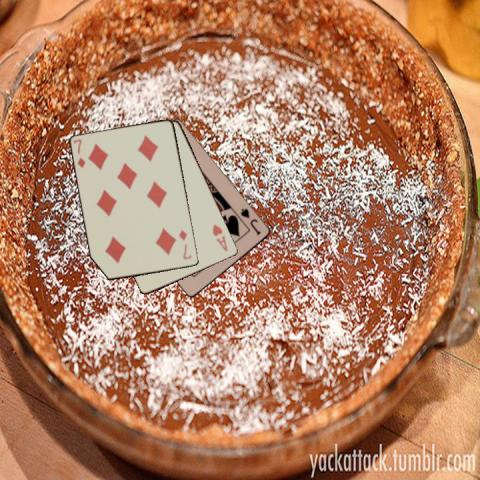7d: (176, 227, 193, 260), (70, 136, 86, 170)
Ah: (210, 222, 229, 254)
Js: (238, 205, 263, 237)
